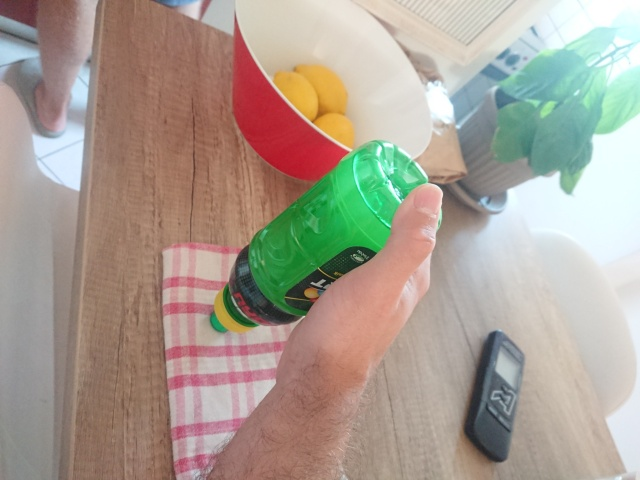Vindi Iso Sport Lemon-Grapefruit 500mL: (206, 137, 446, 337)
